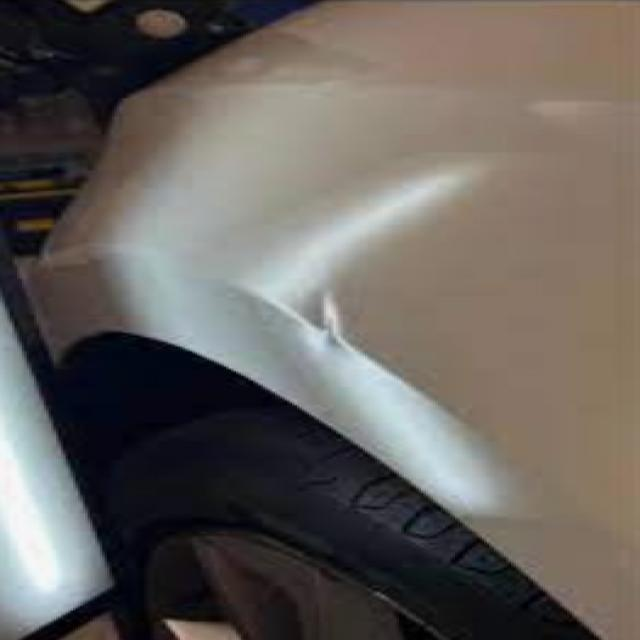dents: (296, 290, 354, 363)
